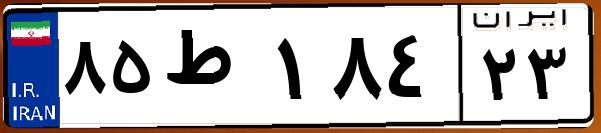1: (270, 28, 330, 110)
2: (475, 38, 525, 113)
3: (525, 38, 570, 115)
4: (385, 28, 445, 110)
5: (110, 28, 158, 98)
8: (330, 28, 385, 110), (57, 26, 110, 100)
ط: (158, 20, 270, 120)
